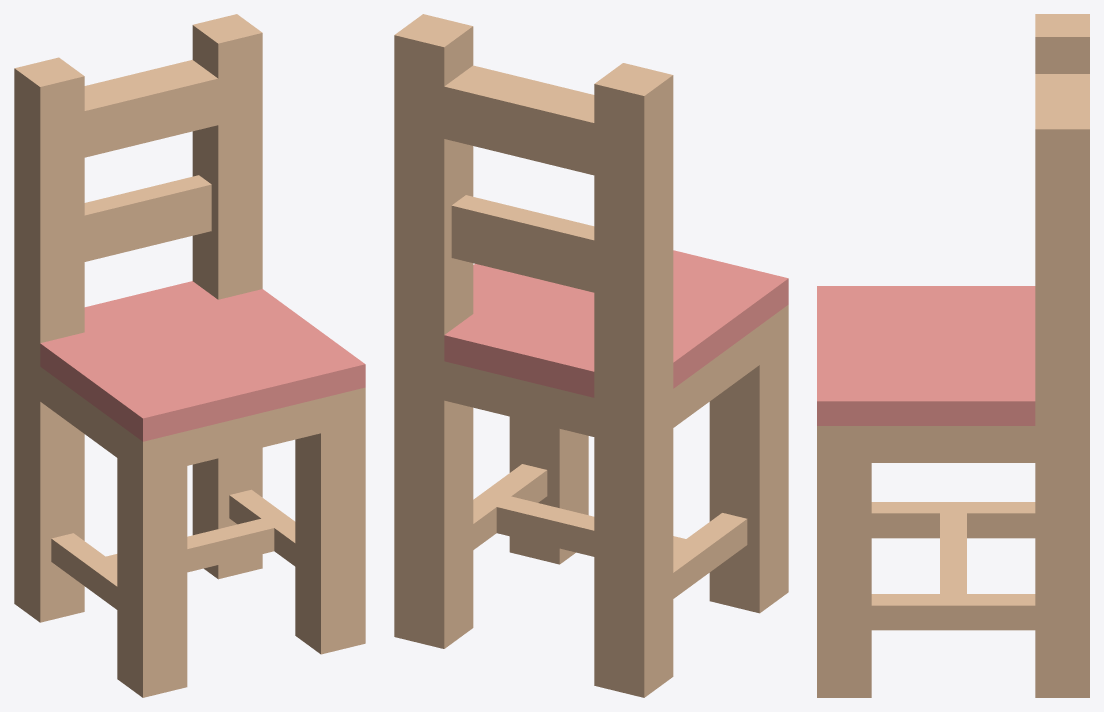
The model's file is chairCushion.glb.
The picture shows the model from 3 angles, left to right: view 1: azimuth 30°, elevation 25°; view 2: azimuth 150°, elevation 25°; view 3: azimuth 270°, elevation 25°; orthographic projection. The views are drawn at different scales.
Parts seen in each view (by area): view 1: chairCushion(Clone); view 2: chairCushion(Clone); view 3: chairCushion(Clone).
Part boxes in pixels (x1=…): chairCushion(Clone): x1=14, y1=14, x2=365, y2=697; chairCushion(Clone): x1=394, y1=14, x2=788, y2=697; chairCushion(Clone): x1=817, y1=14, x2=1089, y2=697.
Size of the model in its own units: 0.406 by 0.9338 by 0.406.
Materials: 2 (2 with a texture image).
